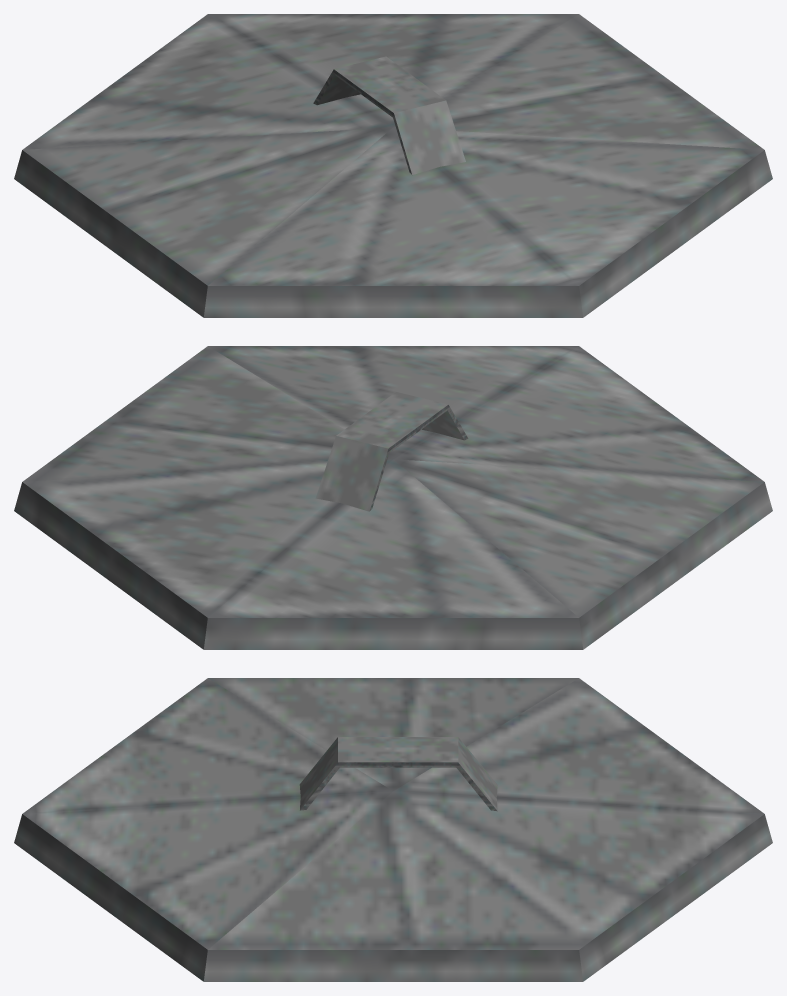
The model's file is Urban_MetaltrashcanLid_Model.fbx.
The picture shows the model from 3 angles, top to bottom: view 1: azimuth 30°, elevation 25°; view 2: azimuth 150°, elevation 25°; view 3: azimuth 270°, elevation 25°; orthographic projection.
Visible parts, largest first — view 1: Urban_MetaltrashcanLid_Mesh; view 2: Urban_MetaltrashcanLid_Mesh; view 3: Urban_MetaltrashcanLid_Mesh.
Part boxes in pixels (x1,y1,x2,y2): Urban_MetaltrashcanLid_Mesh: [14, 14, 772, 317]; Urban_MetaltrashcanLid_Mesh: [14, 346, 772, 649]; Urban_MetaltrashcanLid_Mesh: [14, 678, 772, 981].
Size of the model in its own units: 0.7618 by 0.1187 by 0.8797.
